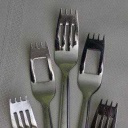Fork: (50, 2, 81, 128), (80, 26, 108, 128), (30, 34, 58, 128), (8, 89, 41, 128), (91, 91, 120, 128)
